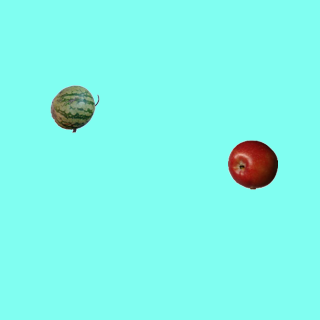Apple Braeburn: (227, 139, 277, 189)
Watermelon: (49, 83, 99, 133)
